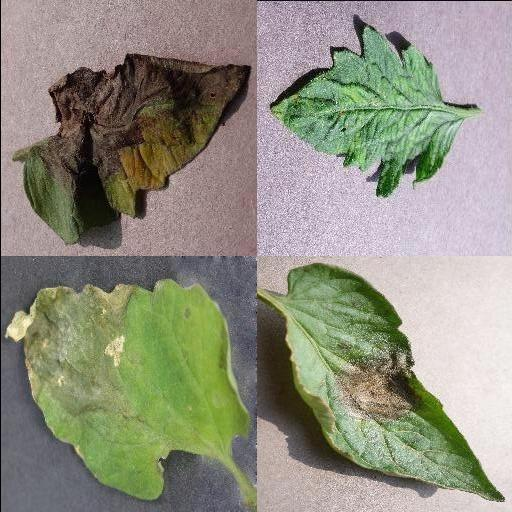Late Blight: (1, 272, 253, 502), (278, 263, 506, 503), (19, 52, 251, 250)
Mosaic Virus: (267, 25, 463, 199)
